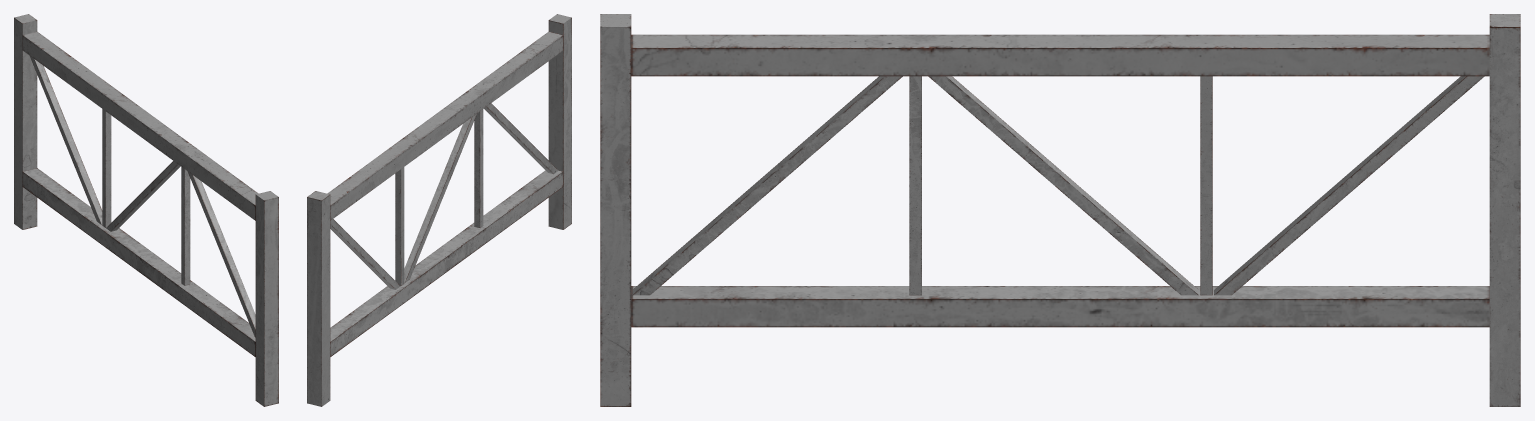
The model's file is bar_fence.glb.
3 views of the same model, side by side, from view 1: azimuth 30°, elevation 25°; view 2: azimuth 150°, elevation 25°; view 3: azimuth 270°, elevation 25° (orthographic). The views are drawn at different scales.
Parts seen in each view (by area): view 1: Object_2; view 2: Object_2; view 3: Object_2.
Boxes of the visible parts, x1,y1,x2,y2 form: Object_2: (14,14,278,406); Object_2: (307,14,571,406); Object_2: (600,14,1520,406).
Bounding box in the file's own units: 0.0476 × 0.6406 × 1.41.
Materials: 1 (1 with a texture image).
